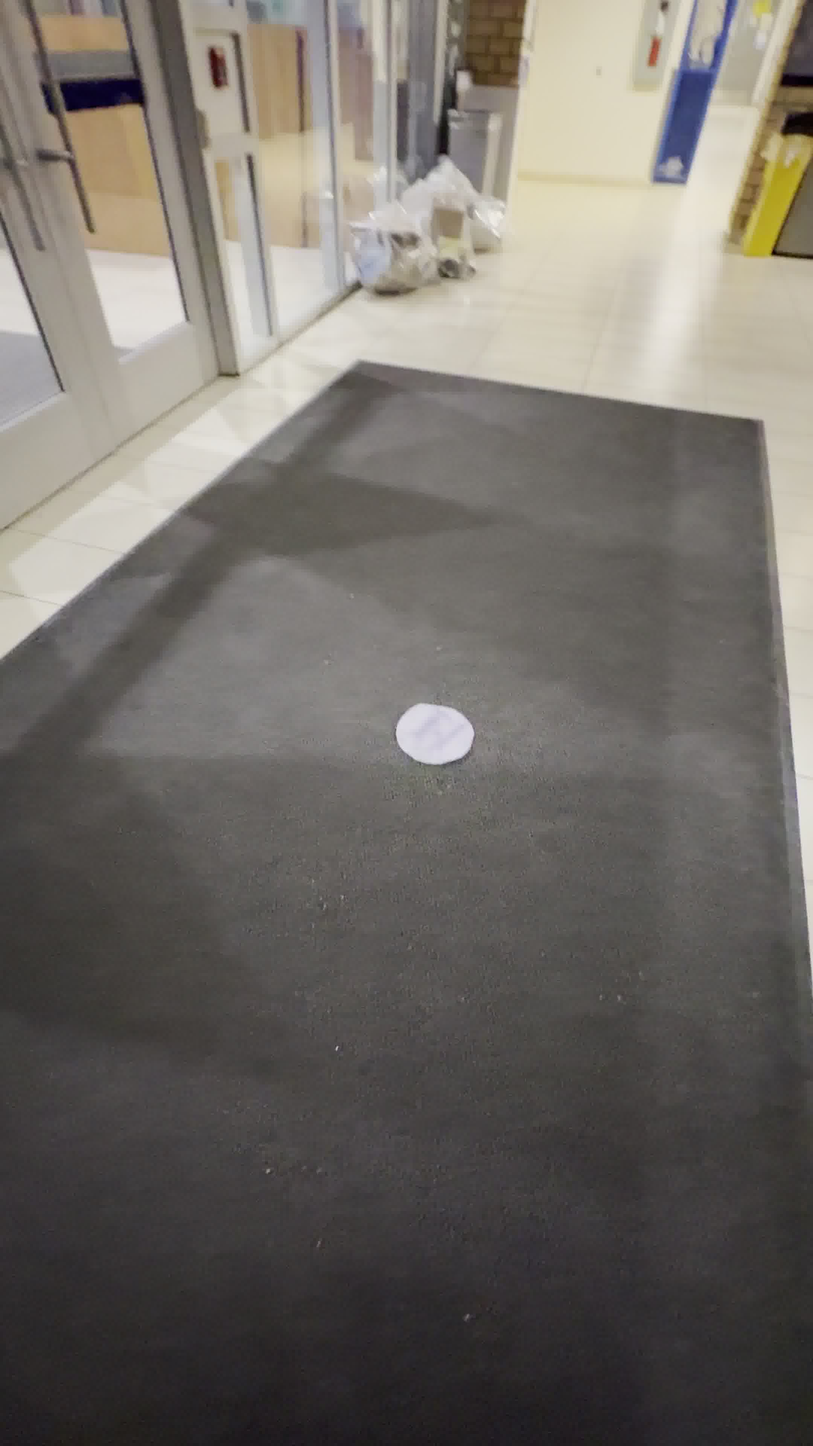Target: (395, 702, 474, 765)
